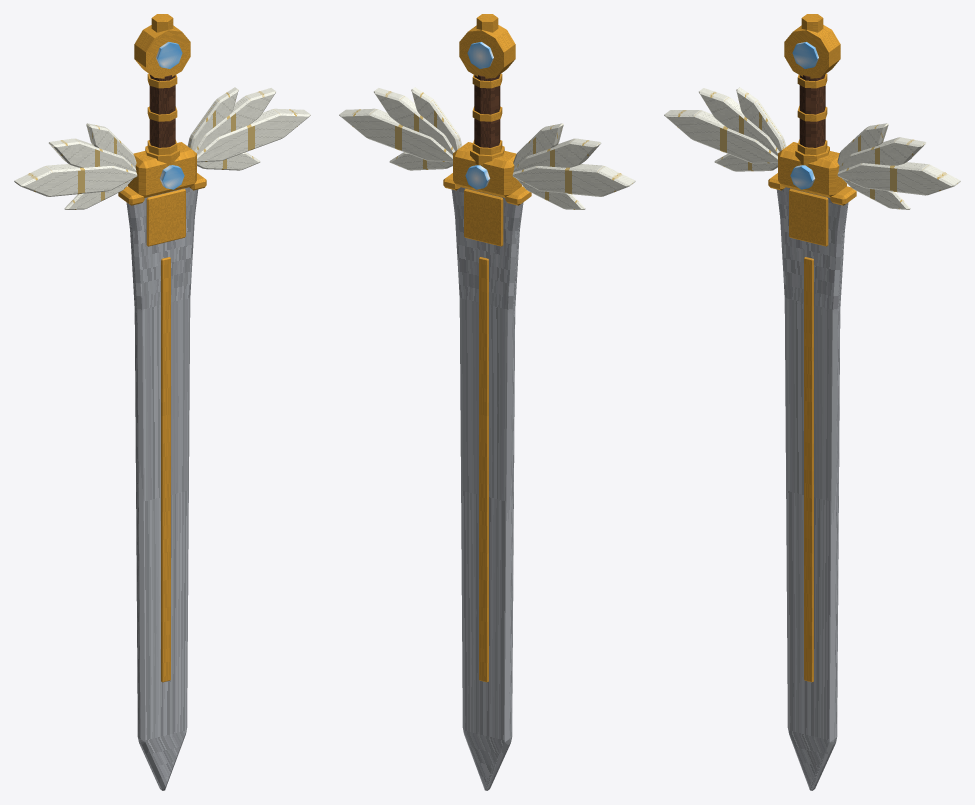
File: AngelSword.glb
3 renders of one model, left to right at view 1: azimuth 30°, elevation 25°; view 2: azimuth 150°, elevation 25°; view 3: azimuth 330°, elevation 25°, orthographic.
Parts seen in each view (by area): view 1: AngelSword; view 2: AngelSword; view 3: AngelSword.
Boxes of the visible parts, left/top/right/bottom form: AngelSword: left=14, top=14, right=310, bottom=790; AngelSword: left=339, top=14, right=635, bottom=790; AngelSword: left=664, top=14, right=960, bottom=790.
Bounding box in the file's own units: 0.3734 × 0.9483 × 0.05.
1 material, 1 textured.
